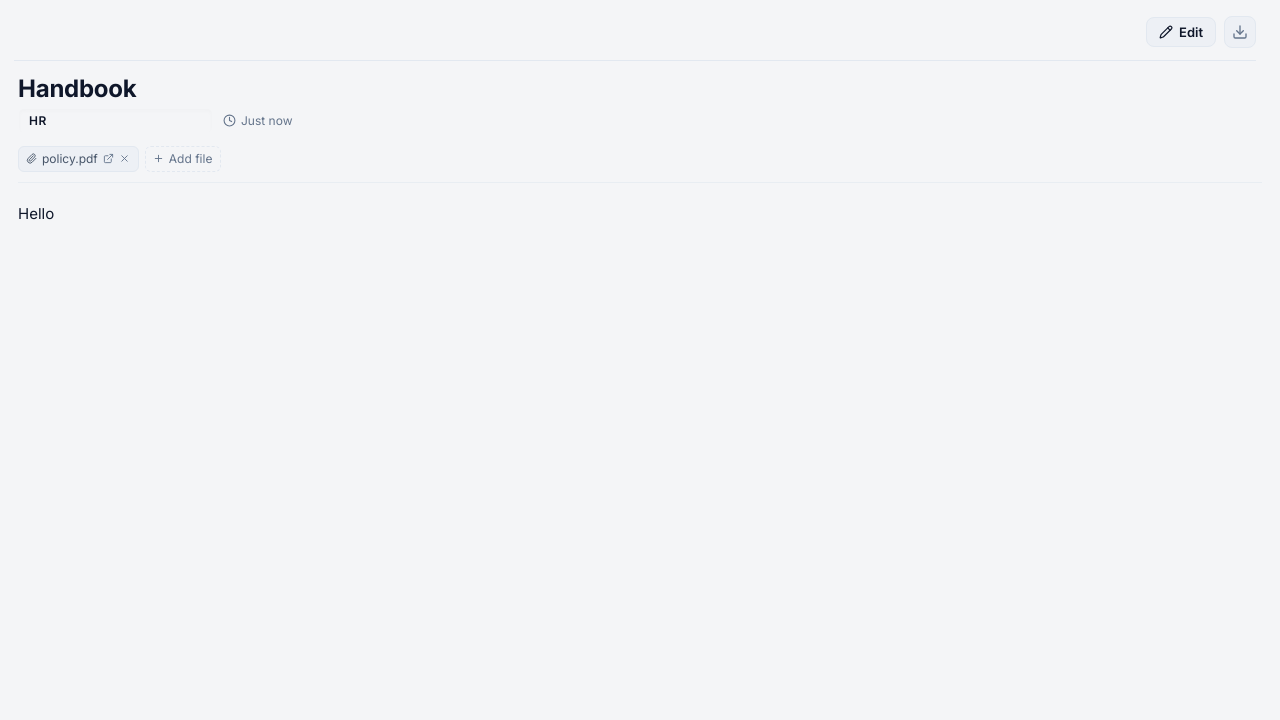
Test case: DocumentPane read and edit modes › opens another document read-only even while one was being edited
Click the button with class "doc-pane-edit-btn".
click(1181, 32)  # box [1146,17,1216,47]
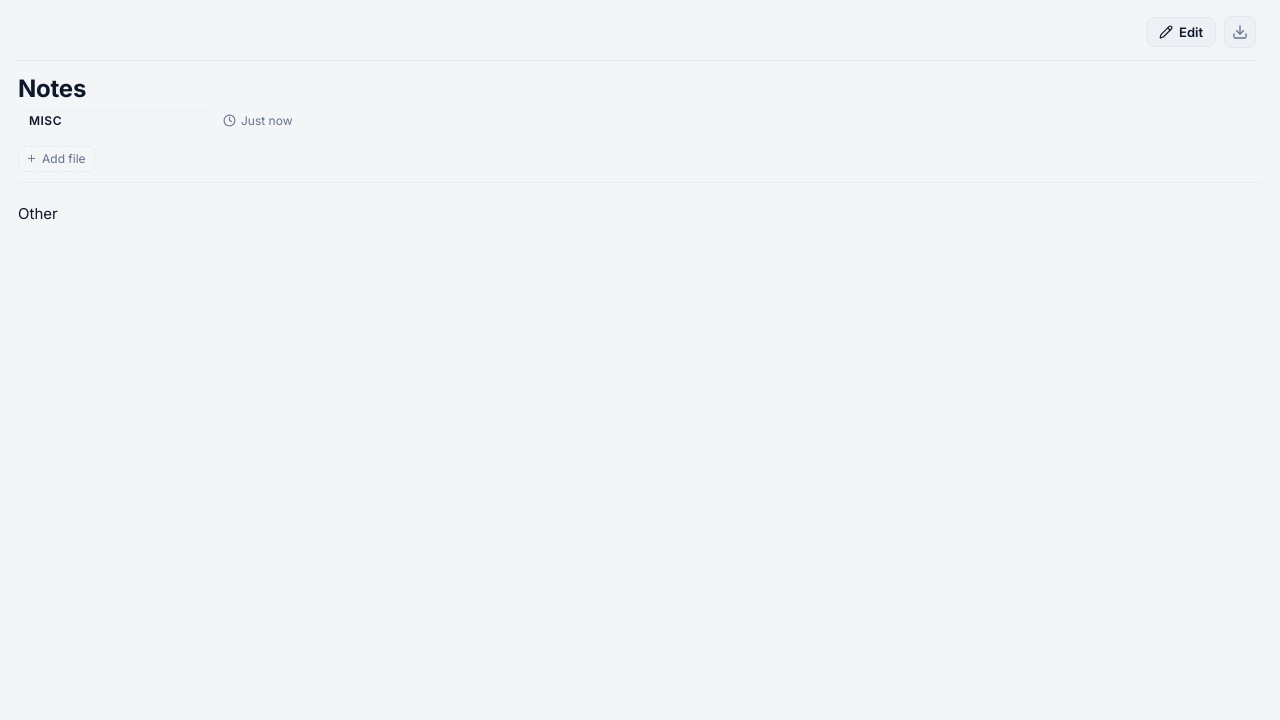
Now the text box with class "notion-content-input" holds "Other", box [18,201,1262,501]
